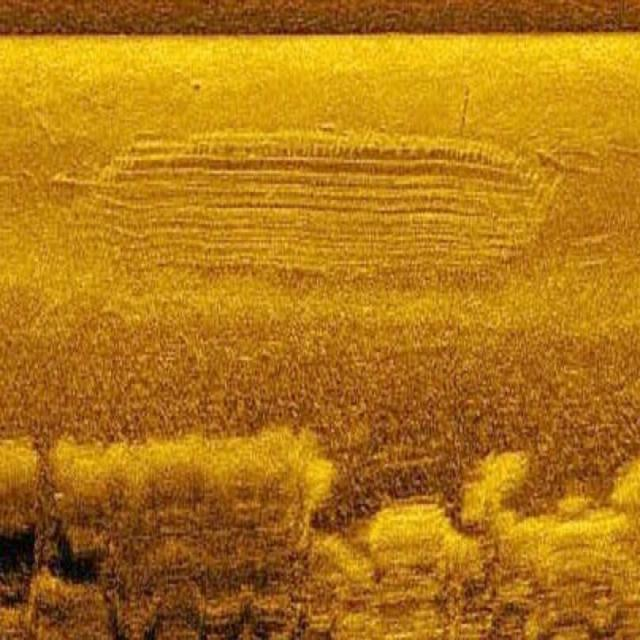ship: (86, 116, 558, 207)
